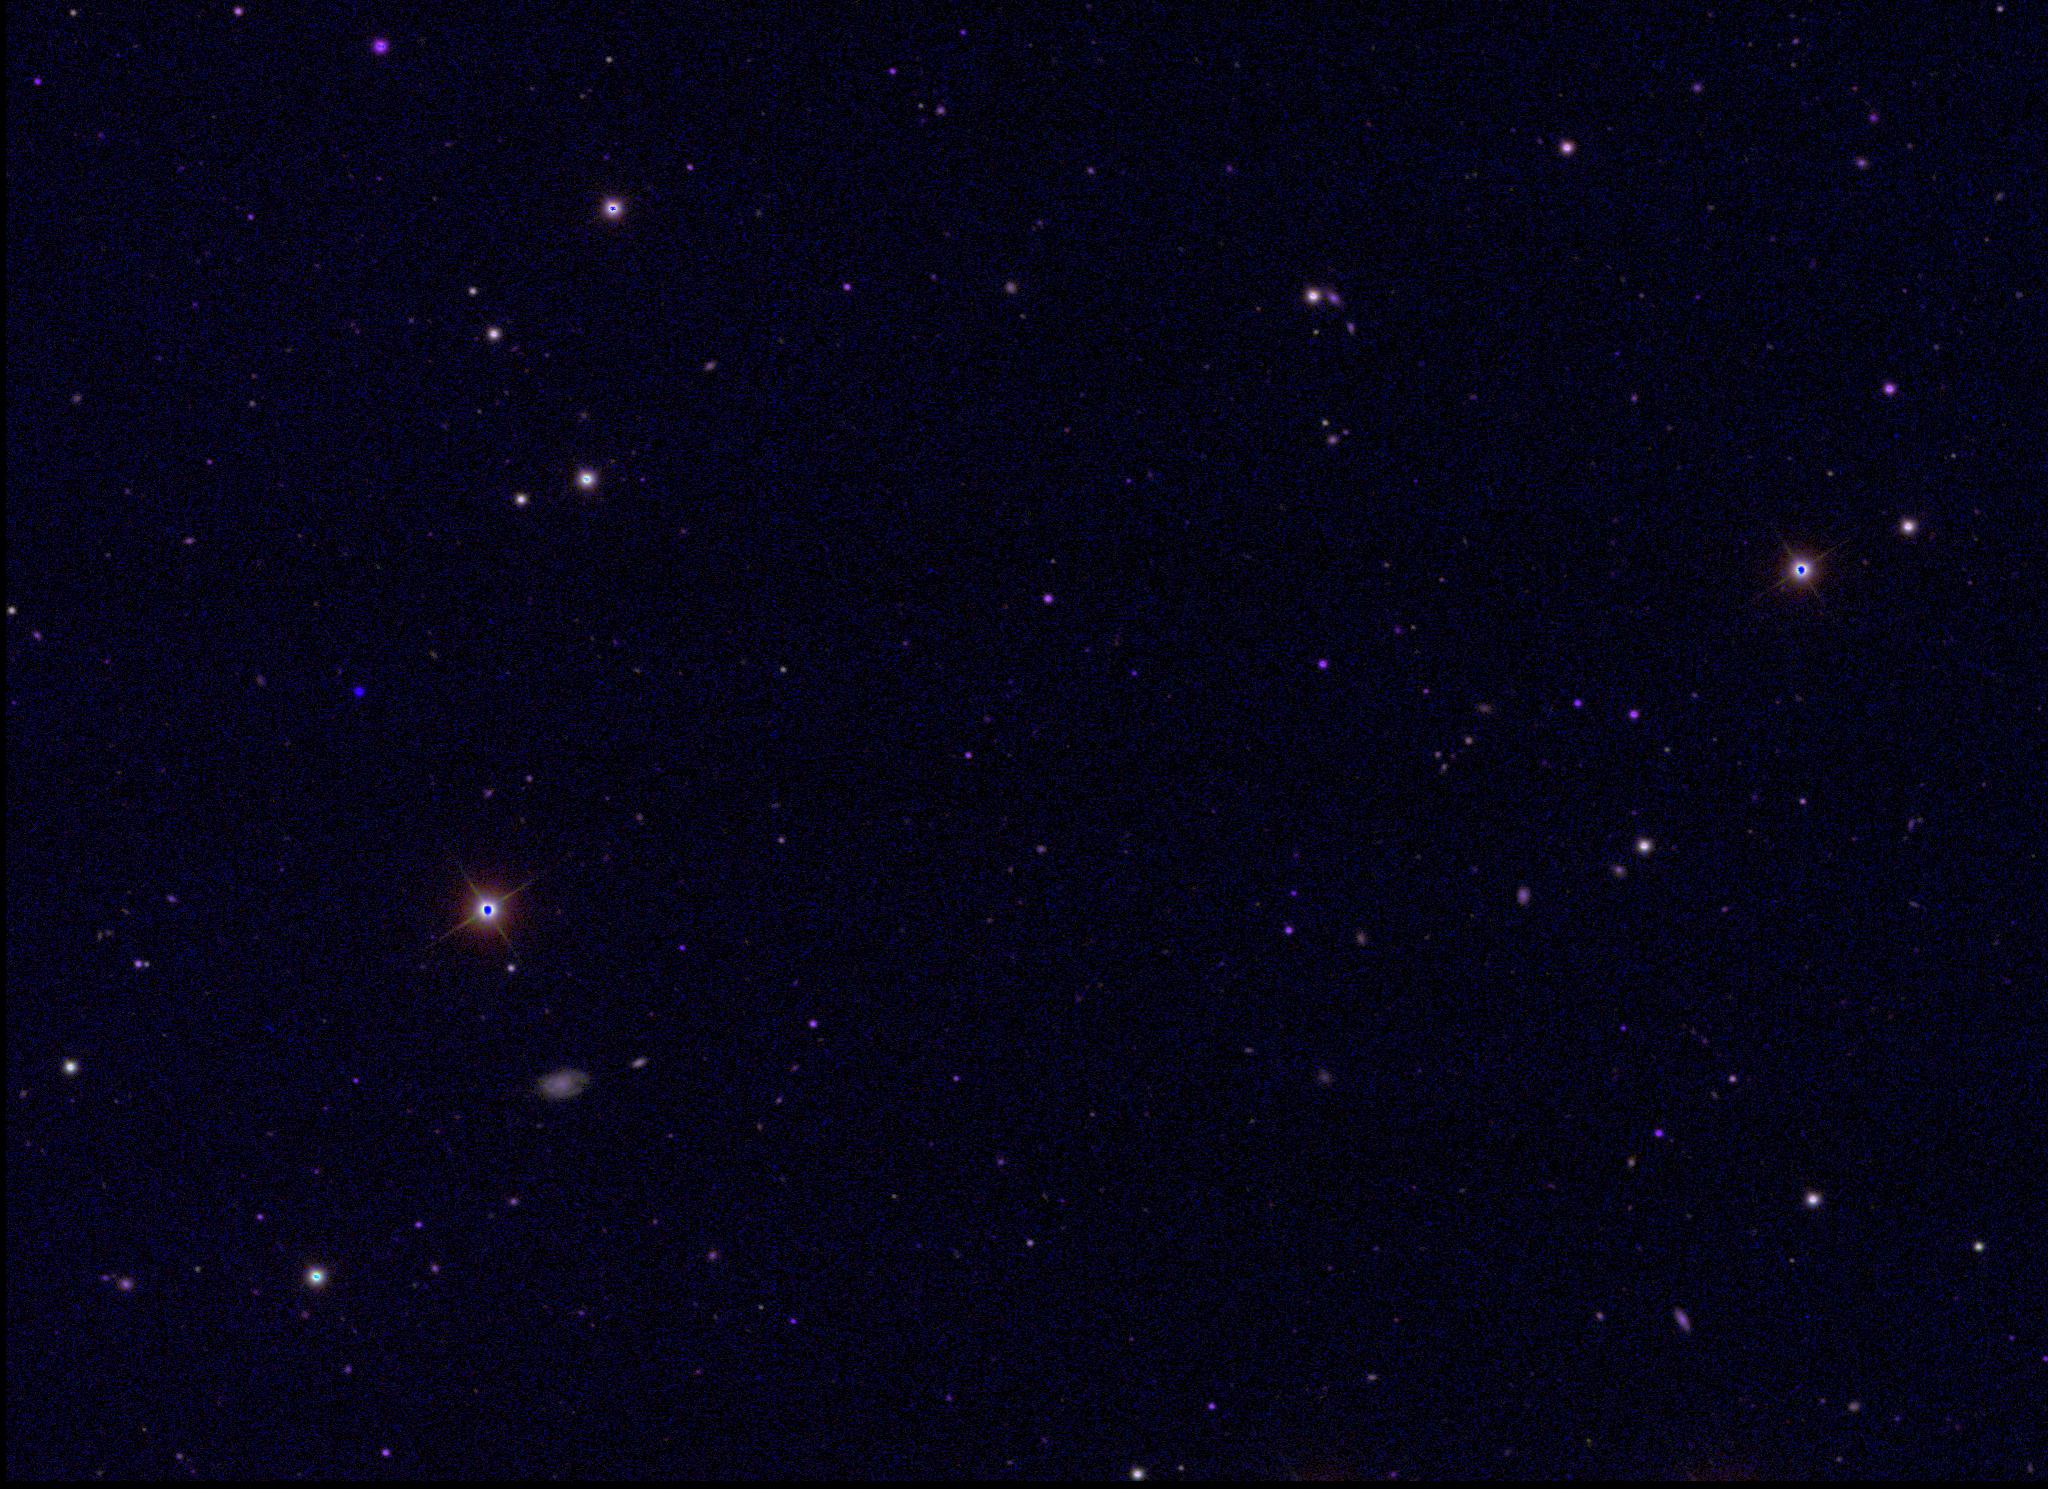L: (355, 679, 367, 694)
